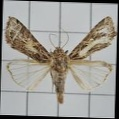Spodoptera litura: (2, 13, 116, 105)
